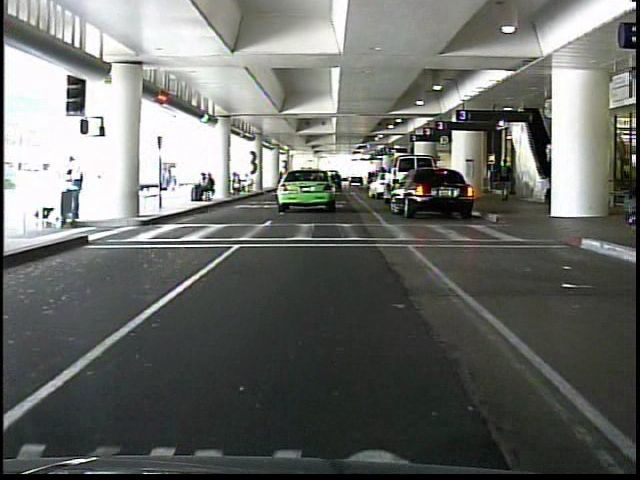person: (60, 154, 93, 230), (497, 159, 513, 204)
